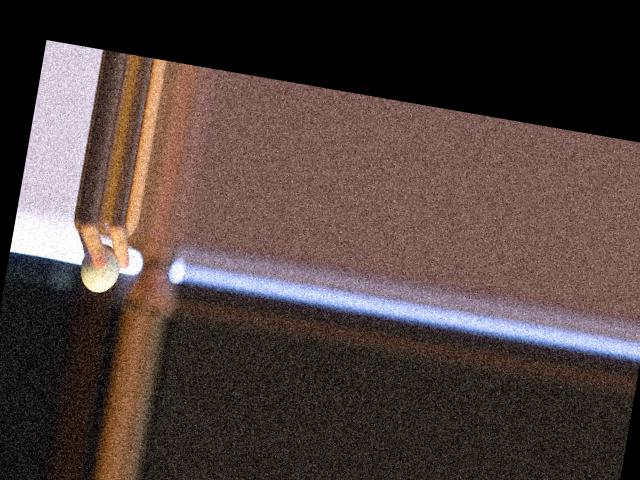egg: (78, 240, 124, 295)
